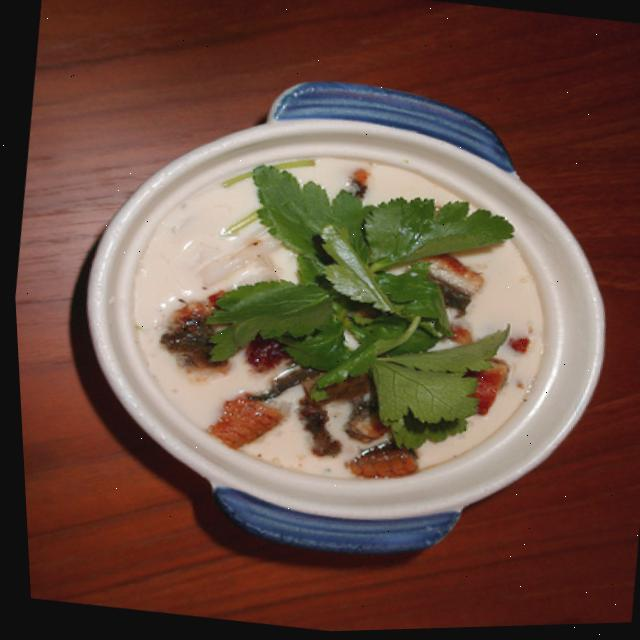鸡蛋料理: (22, 44, 640, 576)
